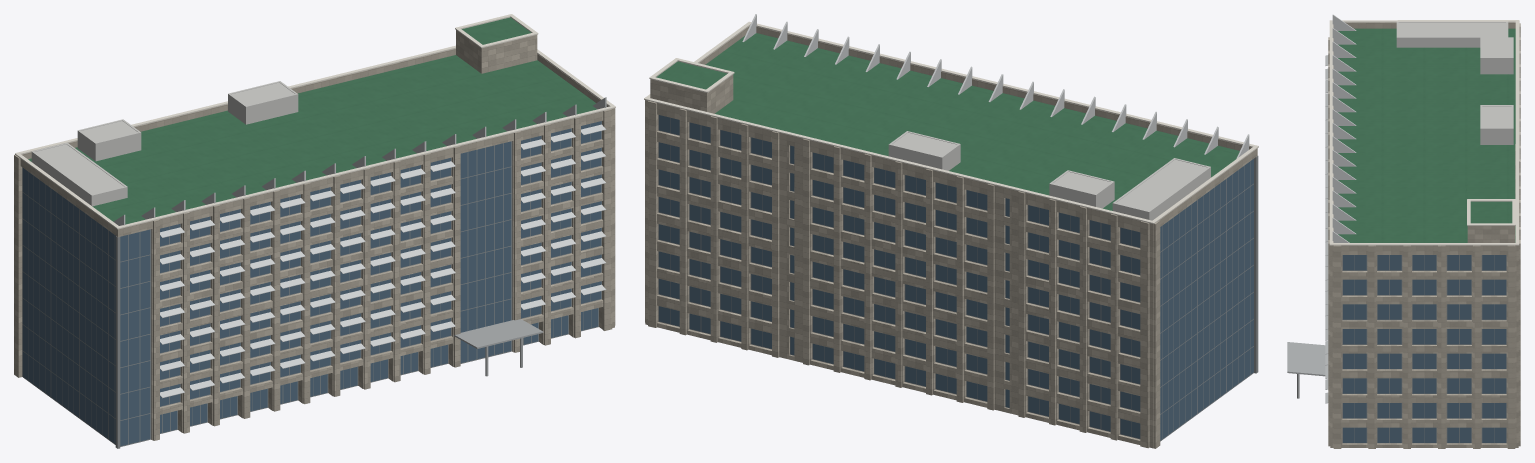
The picture shows the model from 3 angles, left to right: view 1: azimuth 30°, elevation 25°; view 2: azimuth 150°, elevation 25°; view 3: azimuth 270°, elevation 25°; orthographic projection. The views are drawn at different scales.
Parts seen in each view (by area): view 1: changui__glass, changui__stone, changui__roof, changui__louvre, changui__frame, changui__plant, changui__trim, changui__canopy; view 2: changui__stone, changui__glass, changui__roof, changui__frame, changui__plant, changui__trim, changui__louvre; view 3: changui__roof, changui__stone, changui__glass, changui__plant, changui__louvre, changui__trim, changui__frame, changui__canopy.
Part boxes in pixels (x1=…): changui__glass: x1=22, y1=121, x2=601, y2=446; changui__stone: x1=14, y1=30, x2=615, y2=440; changui__roof: x1=28, y1=17, x2=596, y2=224; changui__louvre: x1=113, y1=97, x2=606, y2=398; changui__frame: x1=22, y1=121, x2=601, y2=448; changui__plant: x1=31, y1=81, x2=298, y2=206; changui__trim: x1=15, y1=14, x2=615, y2=229; changui__canopy: x1=453, y1=319, x2=543, y2=376; changui__stone: x1=645, y1=26, x2=1257, y2=448; changui__glass: x1=659, y1=115, x2=1253, y2=440; changui__roof: x1=656, y1=33, x2=1239, y2=210; changui__frame: x1=658, y1=115, x2=1258, y2=441; changui__plant: x1=888, y1=131, x2=1210, y2=220; changui__trim: x1=644, y1=21, x2=1258, y2=223; changui__louvre: x1=742, y1=14, x2=1249, y2=158; changui__roof: x1=1338, y1=28, x2=1515, y2=242; changui__stone: x1=1328, y1=22, x2=1520, y2=448; changui__glass: x1=1343, y1=255, x2=1506, y2=442; changui__plant: x1=1396, y1=21, x2=1513, y2=144; changui__louvre: x1=1325, y1=14, x2=1356, y2=403; changui__trim: x1=1329, y1=20, x2=1519, y2=245; changui__frame: x1=1342, y1=255, x2=1506, y2=443; changui__canopy: x1=1287, y1=342, x2=1327, y2=398.
Size of the model in its own units: 76.6 by 35.16 by 33.51.
8 materials, 2 textured.
